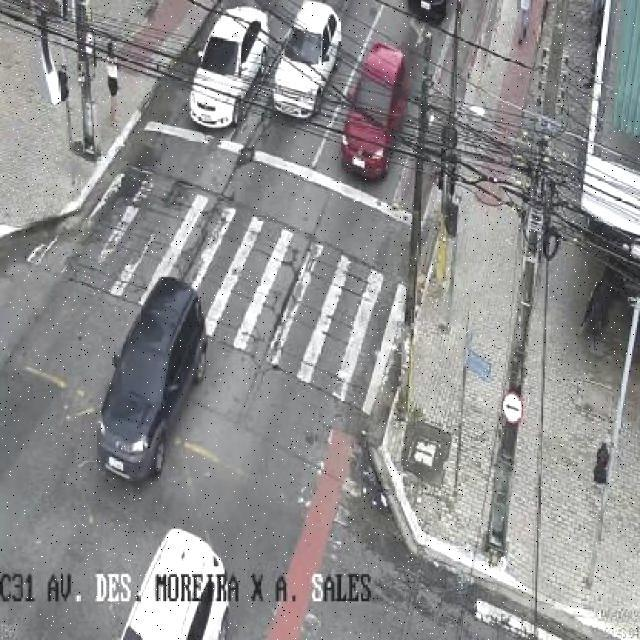Car: (93, 270, 212, 492), (101, 514, 244, 639), (342, 26, 423, 184), (191, 0, 272, 142), (270, 0, 353, 130)
